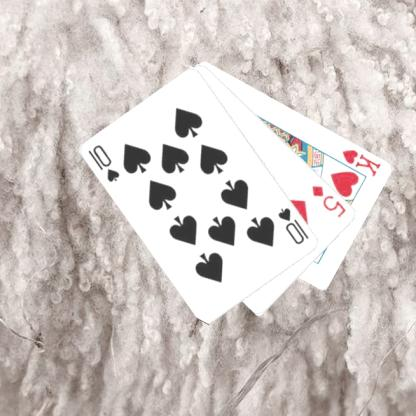10S: (85, 141, 122, 184), (275, 205, 311, 246)
5D: (309, 182, 348, 219)
KH: (339, 146, 383, 178)
